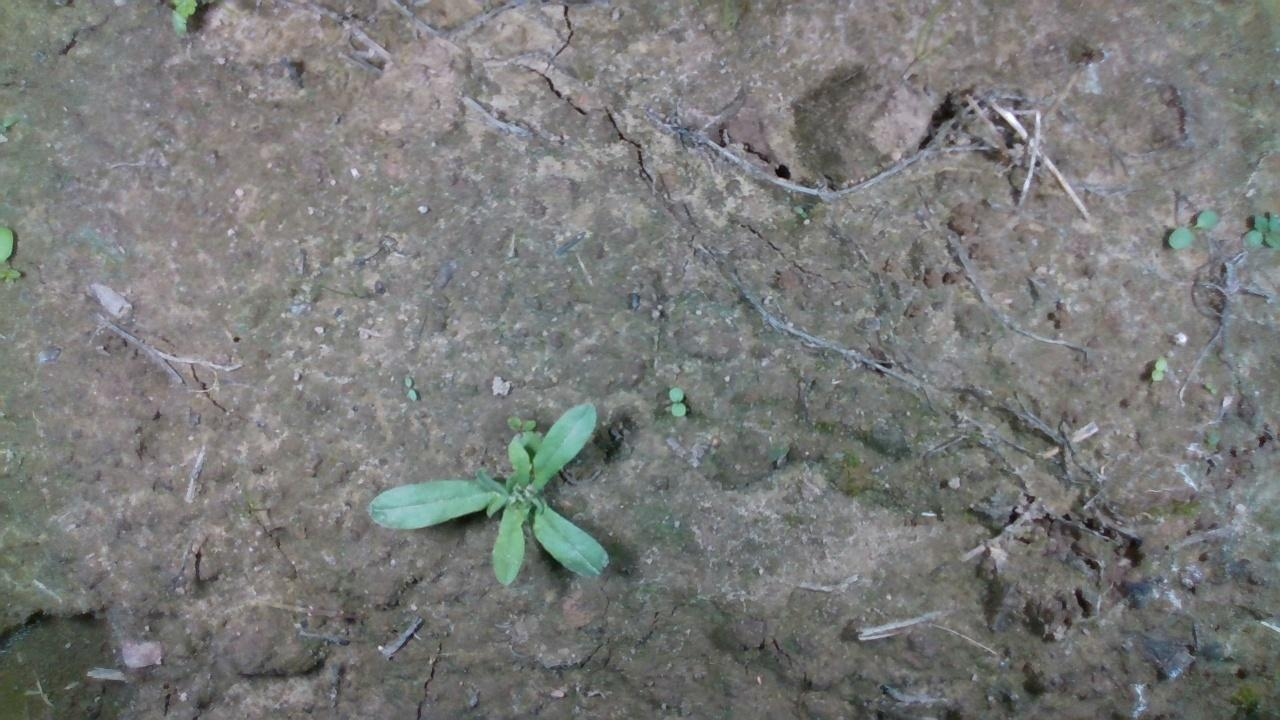weed: (1165, 208, 1221, 247), (665, 384, 687, 417), (1149, 357, 1168, 381)
